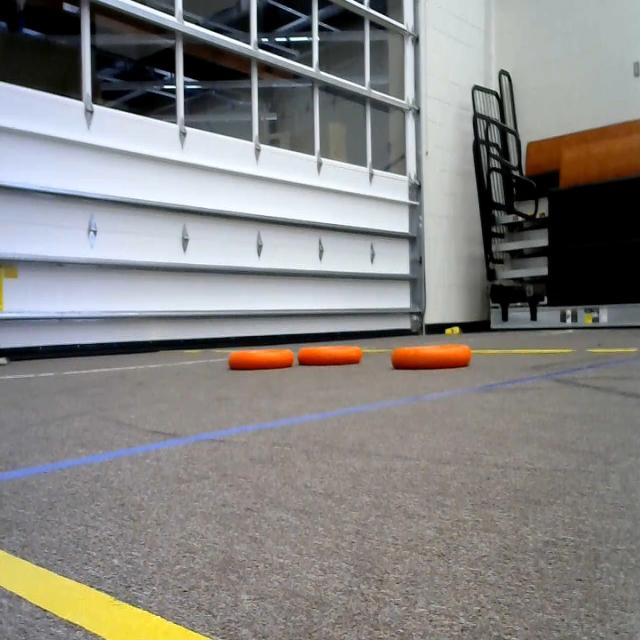note: (222, 338, 299, 387), (295, 333, 363, 381), (388, 333, 473, 370)
